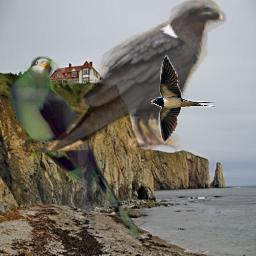Crow: (45, 0, 226, 160)
Cuckoo: (8, 56, 151, 241)
Swallow: (151, 55, 216, 144)
